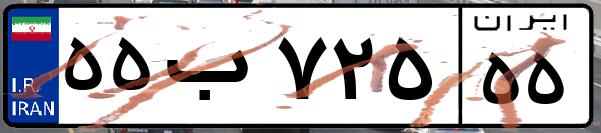2: (330, 28, 385, 110)
5: (385, 28, 445, 110), (57, 26, 110, 100), (475, 38, 525, 113), (525, 38, 570, 115), (110, 28, 158, 98)
7: (270, 28, 330, 110)
ب: (158, 20, 270, 120)
